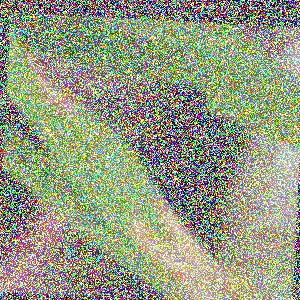Brown_Spot: (118, 172, 247, 300), (24, 52, 97, 125)
